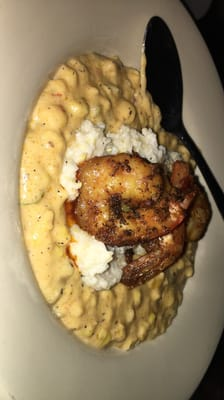sandwich: (141, 13, 223, 222)
